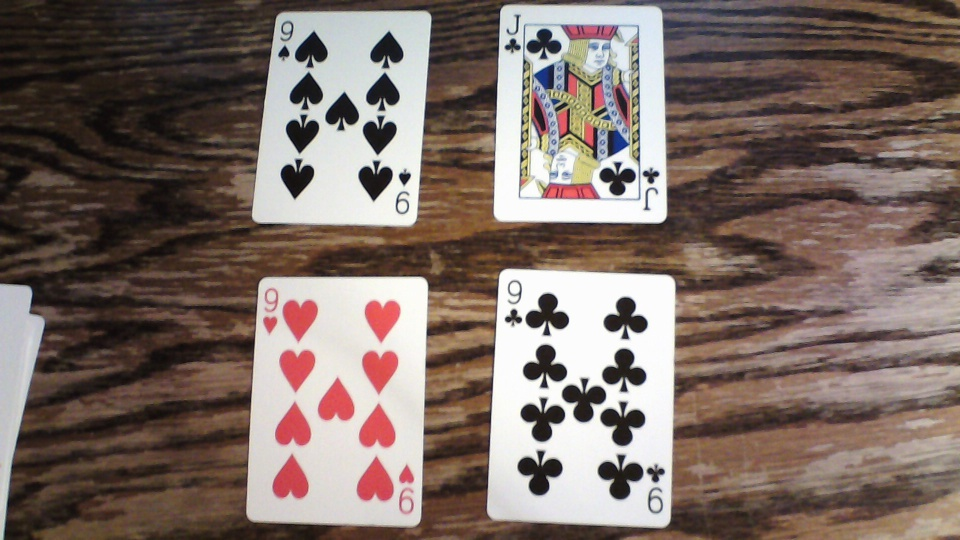jack: (493, 5, 669, 223)
nine: (485, 268, 676, 527), (245, 275, 429, 528), (250, 9, 433, 228)
